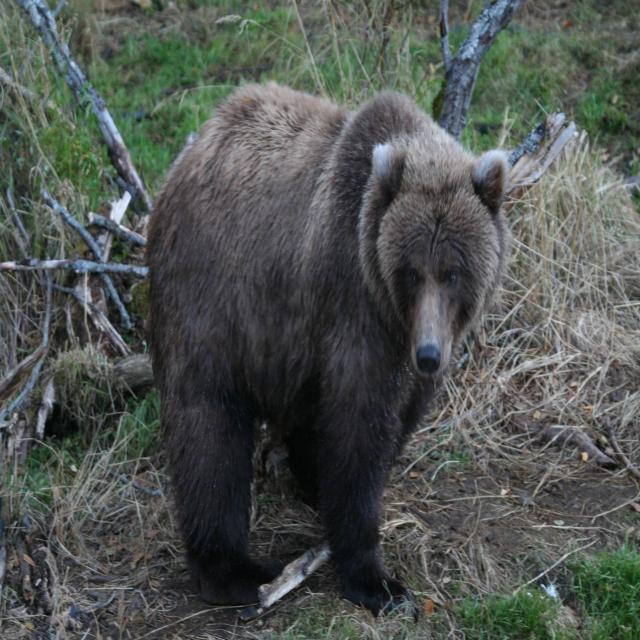bear face: (147, 81, 513, 602)
